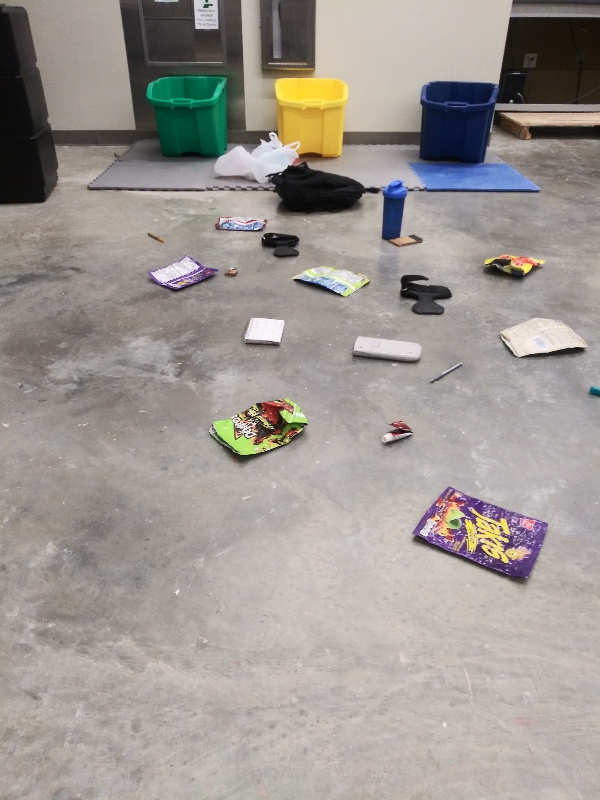bag: (409, 483, 552, 586), (207, 392, 312, 461), (493, 315, 594, 361), (285, 259, 376, 300), (141, 253, 221, 295), (480, 249, 550, 279), (210, 212, 271, 235)
